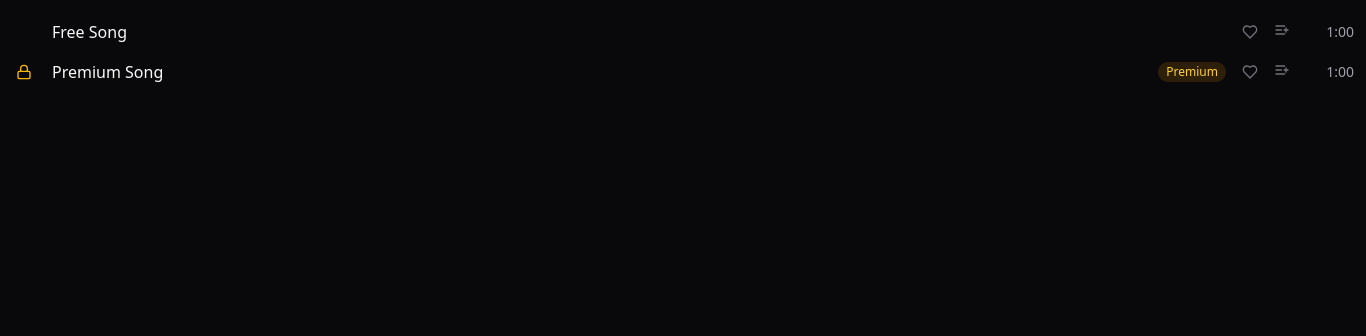
it: premium tracks for guests › lock premium tracks and send the guest to sign in, but leave free tracks playable
Step 1. Click the button named "Sign in to play Premium Song" → (24, 72), box [12, 60, 36, 84]
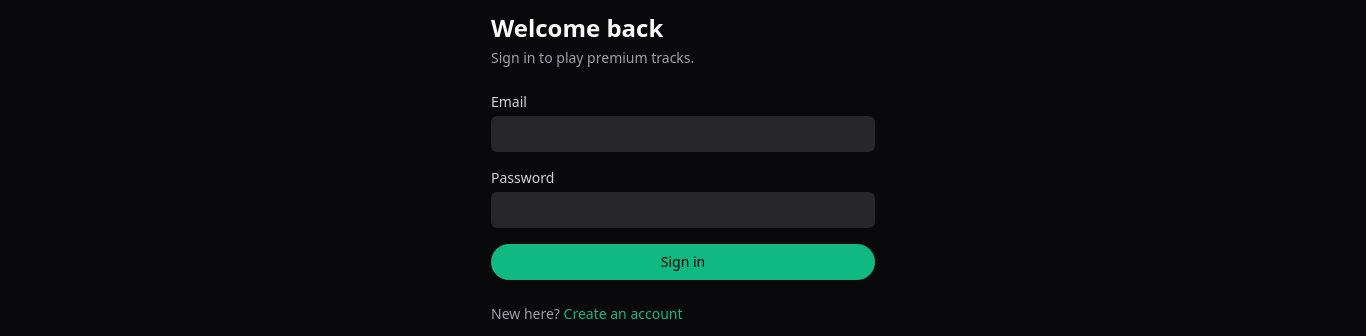
Check: the text "Sign in to play premium tracks." is shown, box [491, 48, 694, 67]
